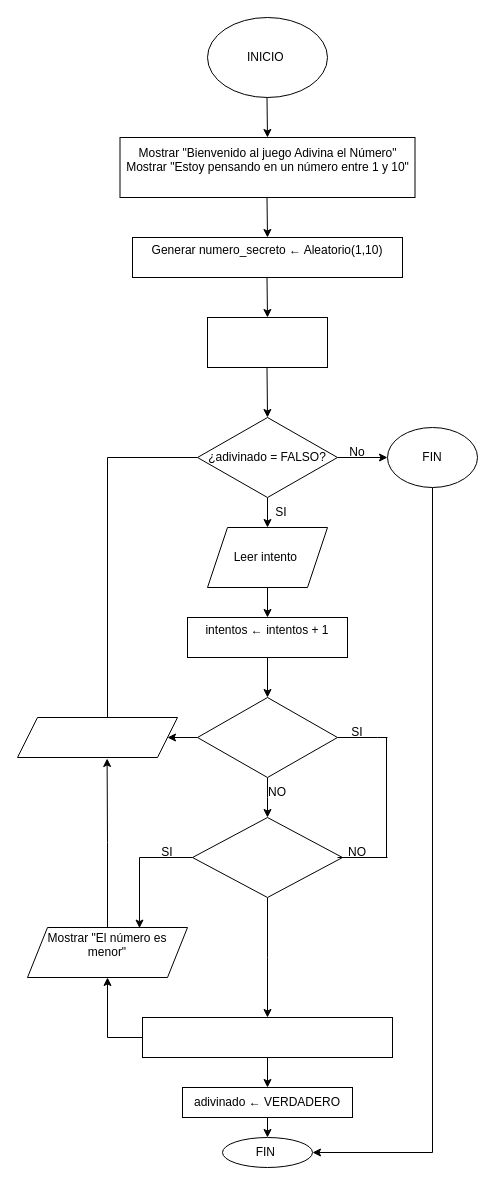
Image size: 495x1185. Some labels were removed from this diagram. Here are the shapes that lost their labels. From the top down, the box of each, then its label:
(206, 316, 328, 368): intentos ← 0 adivinado ← FALSO
(16, 716, 178, 758): Mostrar "El número es mayor"
(196, 696, 338, 778): ¿intento ← numero_secreto?
(192, 816, 342, 898): ¿intento > numero_secreto?
(142, 1016, 392, 1058): Mostrar "Correcto, adivinaste en X intentos"
